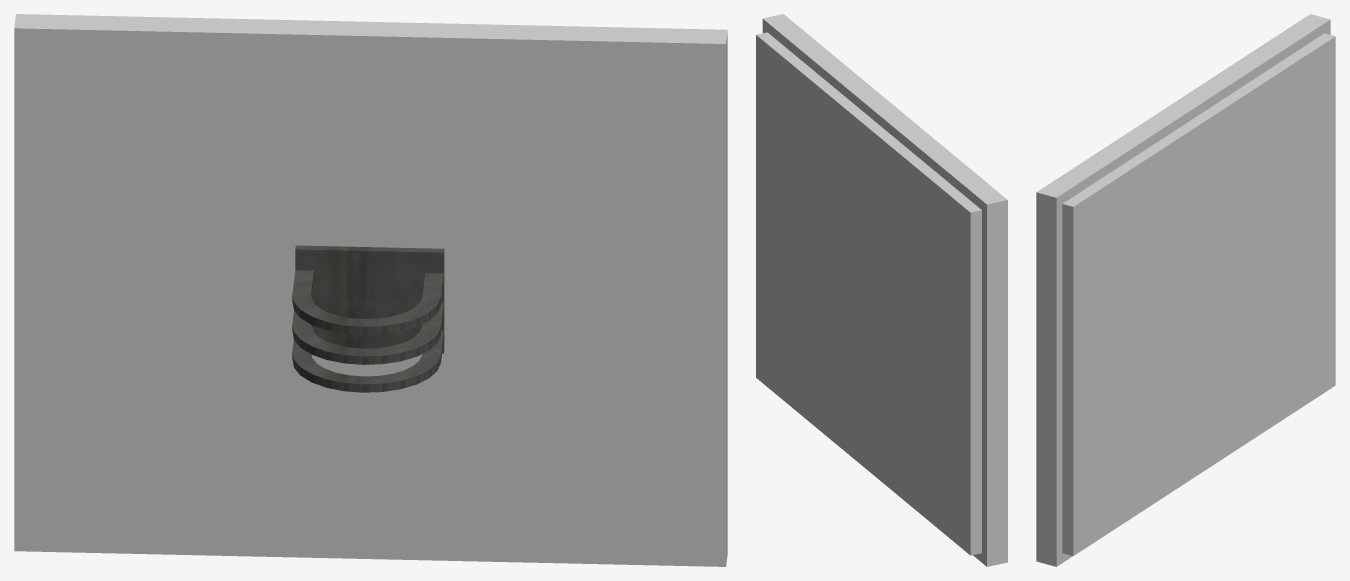
The model's file is leitor-rfid.glb.
3 views of the same model, side by side, from view 1: azimuth 30°, elevation 25°; view 2: azimuth 150°, elevation 25°; view 3: azimuth 270°, elevation 25° (orthographic). The views are drawn at different scales.
Visible parts, largest first — view 1: Componente_17_1, Componente_1_1, Al_a1, Al_a3, Al_a2; view 2: Componente_17_1; view 3: Componente_17_1.
Part boxes in pixels (x1,y1,x2,y2): Componente_17_1: (14, 14, 727, 566); Componente_1_1: (295, 245, 444, 353); Al_a1: (292, 270, 443, 335); Al_a3: (292, 300, 443, 364); Al_a2: (292, 328, 443, 392); Componente_17_1: (756, 14, 1007, 566); Componente_17_1: (1036, 14, 1335, 566).
Bounding box in the file's own units: 0.6634 × 0.621 × 0.4563.
Materials: 2 (1 with a texture image).
